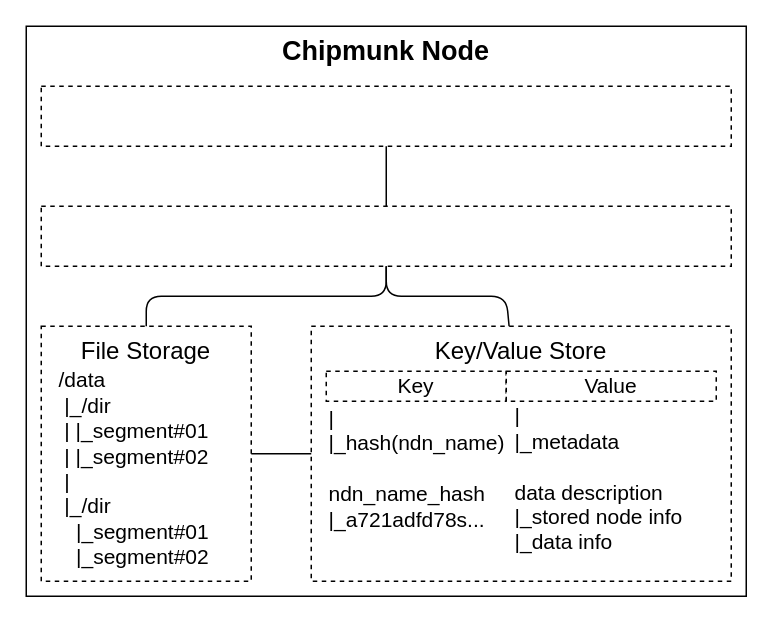
Image size: 773x623. Some labels were removed from this diagram. Here are the shapes that lost their labels. From the top down, the box of each, then its label:
(40, 85, 731, 146): NFD
(40, 205, 731, 266): handler
